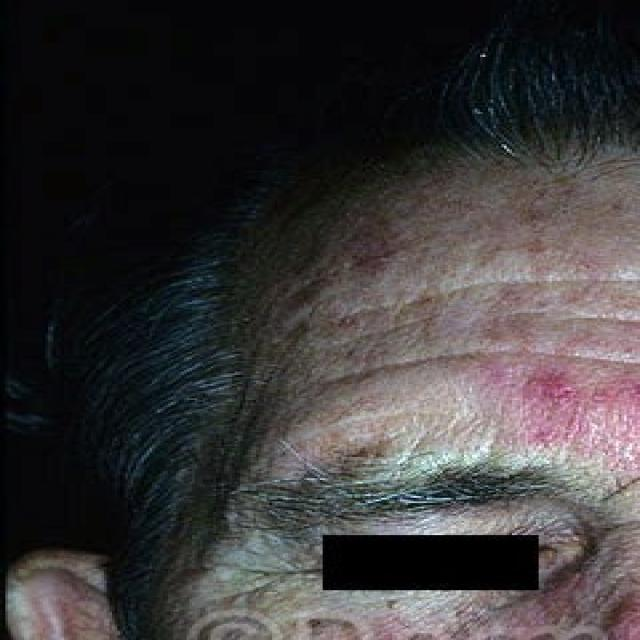Rosacea: (480, 352, 640, 446)
